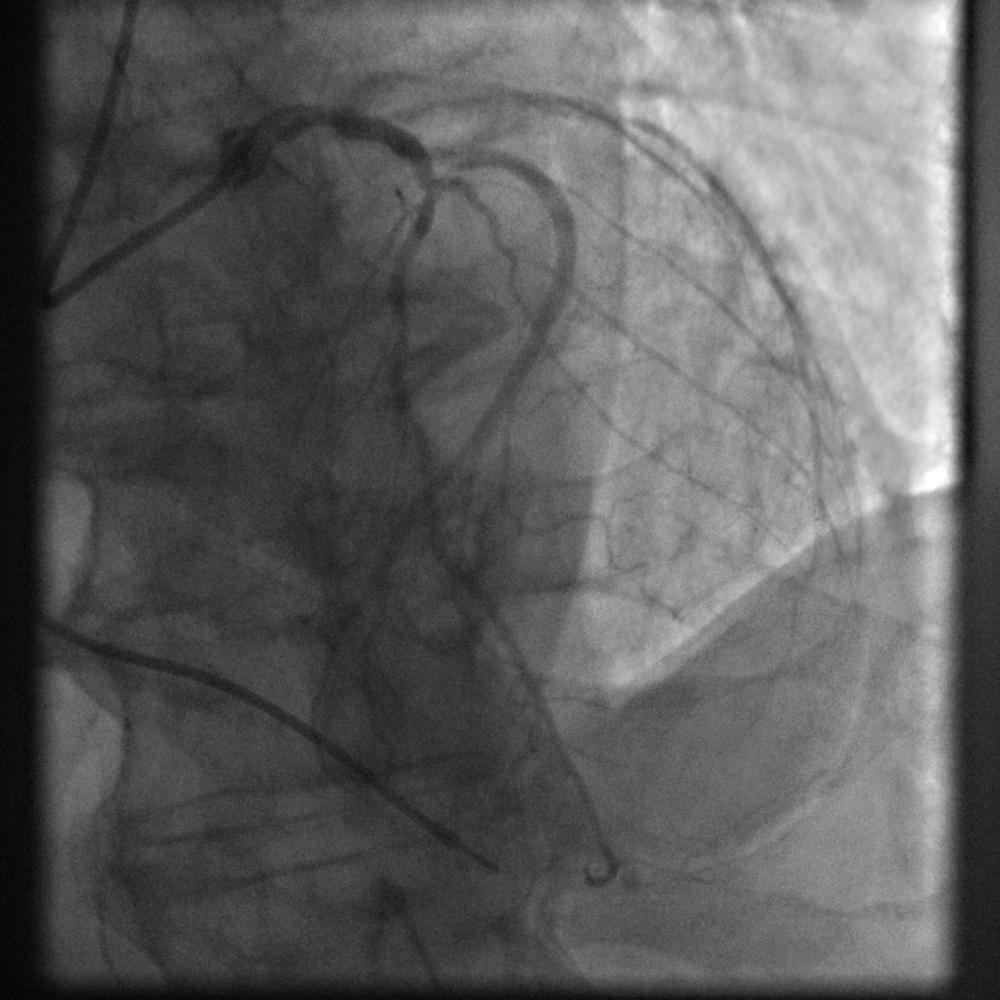Stenosis: (412, 163, 459, 213)
